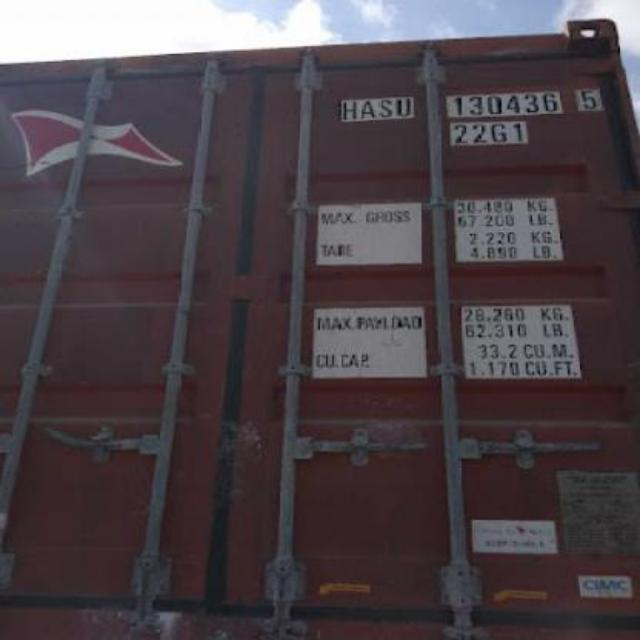0: (484, 94, 504, 116)
1: (450, 94, 466, 116)
3: (466, 94, 484, 116), (526, 91, 542, 112)
4: (506, 92, 522, 112)
5: (578, 88, 600, 108)
6: (542, 90, 560, 114)
A: (358, 98, 378, 120)
H: (340, 98, 358, 120)
S: (376, 98, 396, 118)
U: (394, 95, 414, 116)
